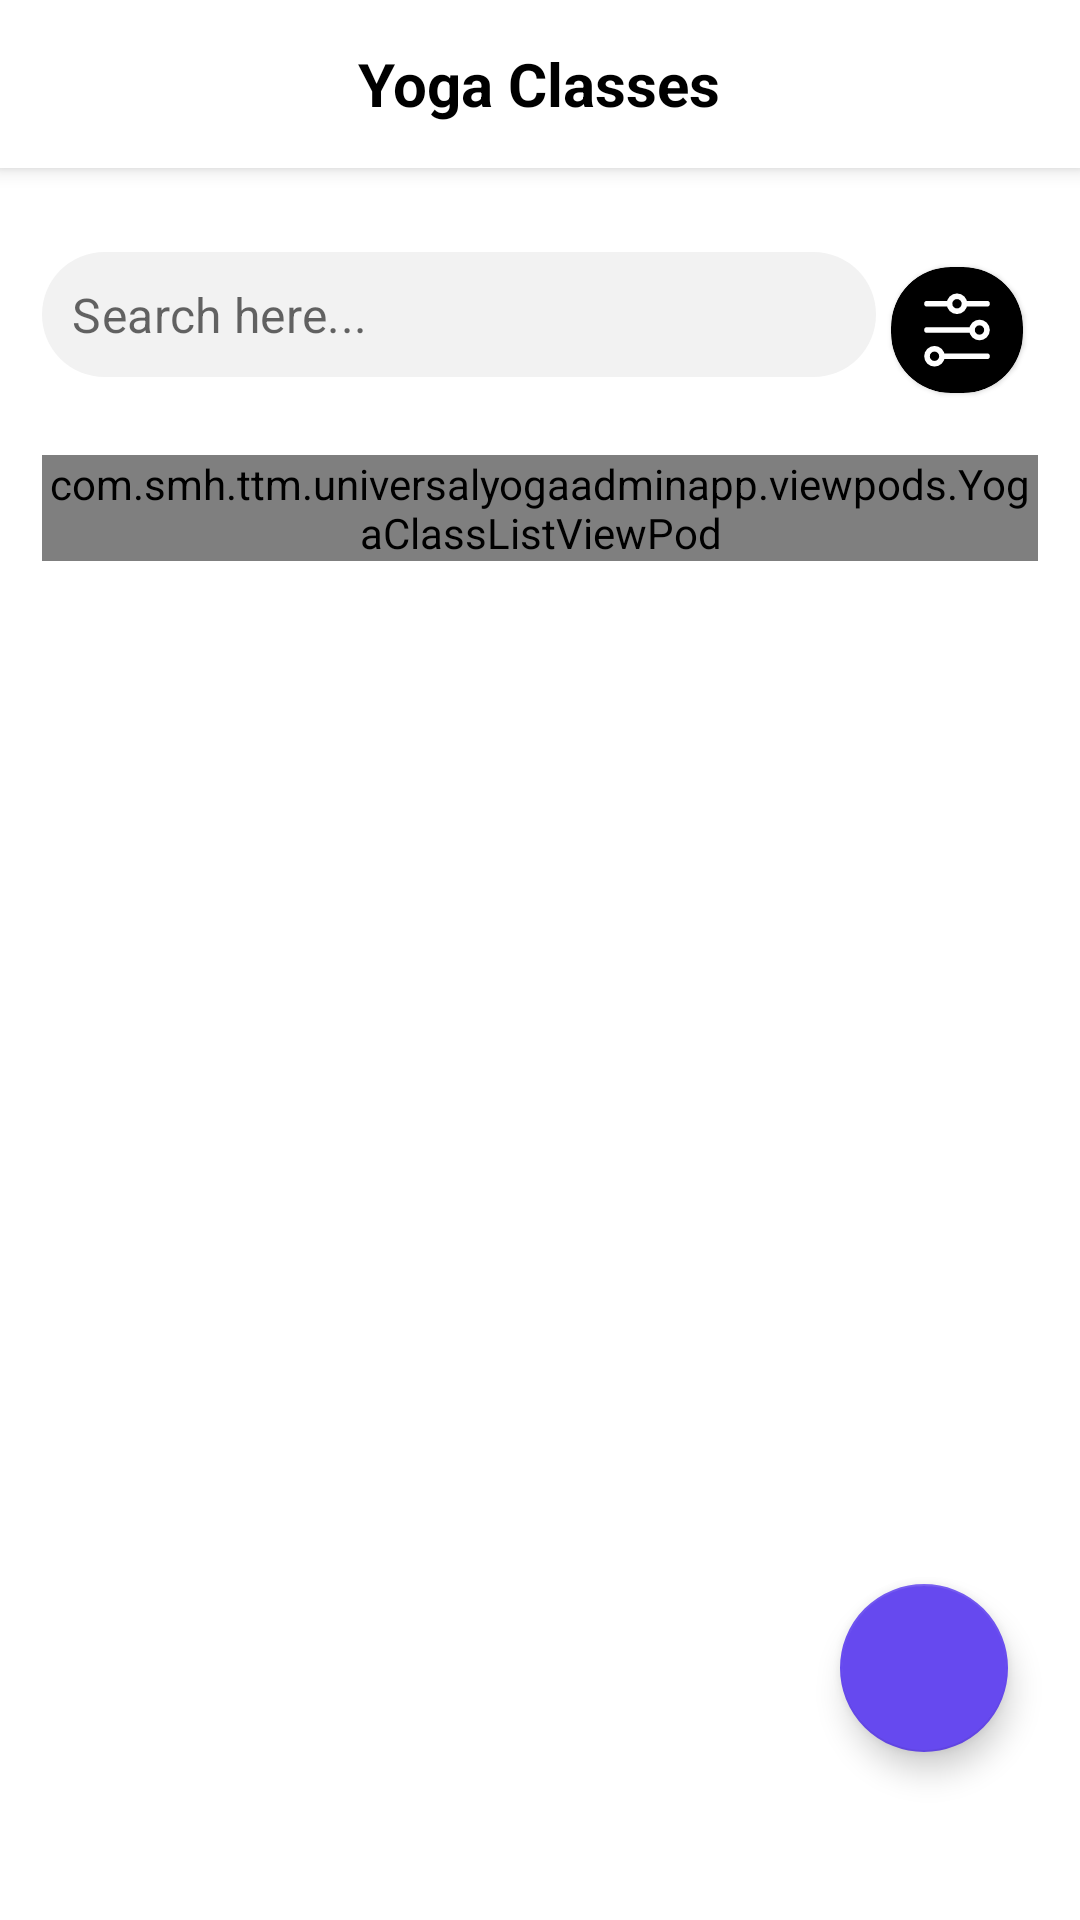

Icon bounding boxes for this 1080px×1920px phone screenshot, format BBox(x1, y1, x2, y2):
filter: BBox(924, 293, 990, 367)
